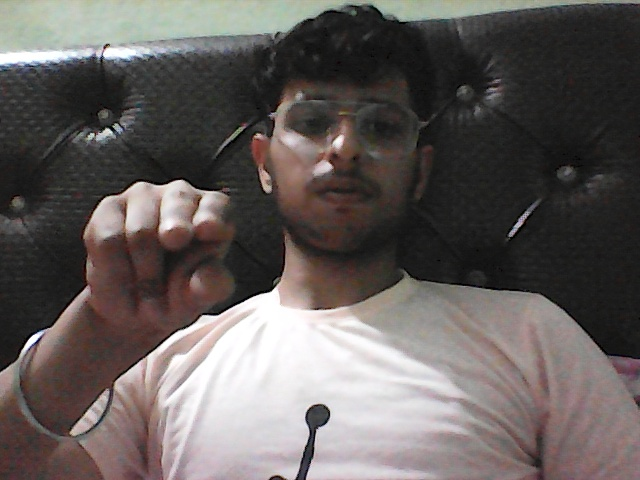no: (70, 156, 250, 351)
